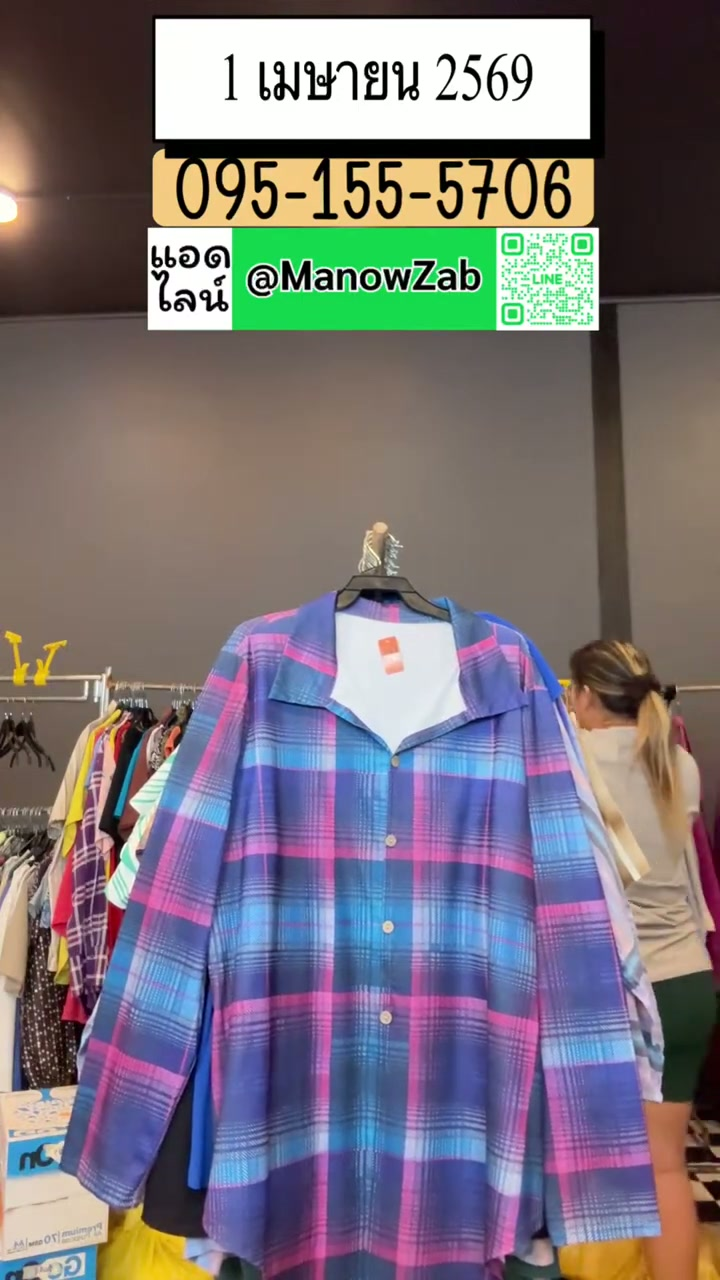display_shirt: (63, 585, 659, 1279)
